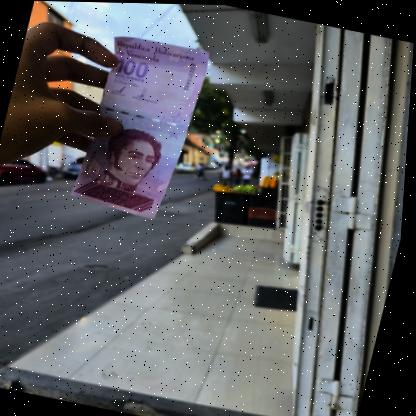vef_front: (69, 30, 212, 221)
